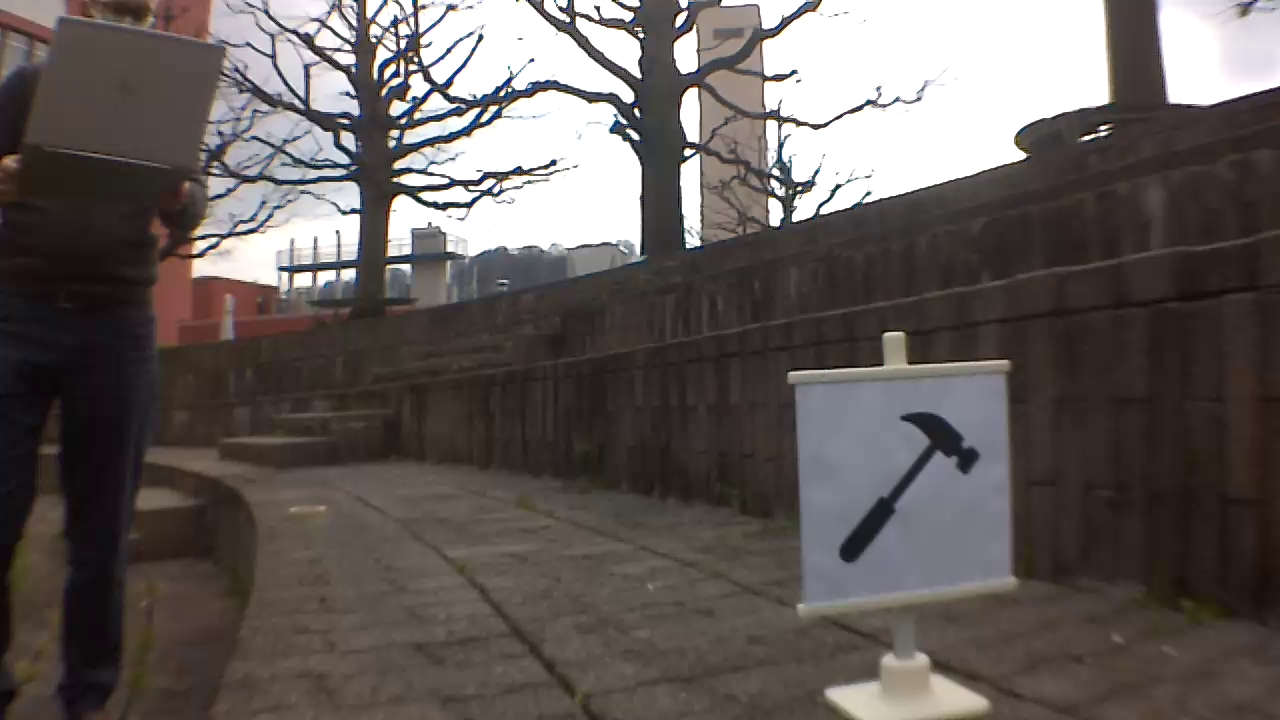hammer: (840, 405, 992, 560)
